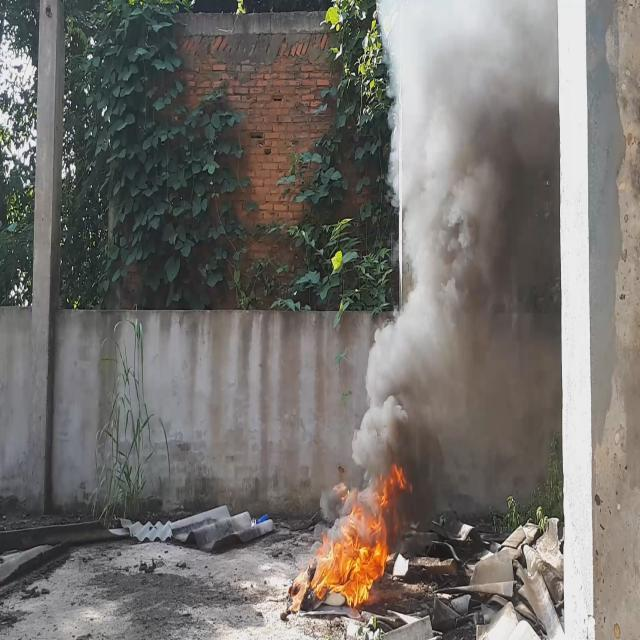Fire: (310, 460, 410, 610)
Smoke: (356, 0, 556, 507)
